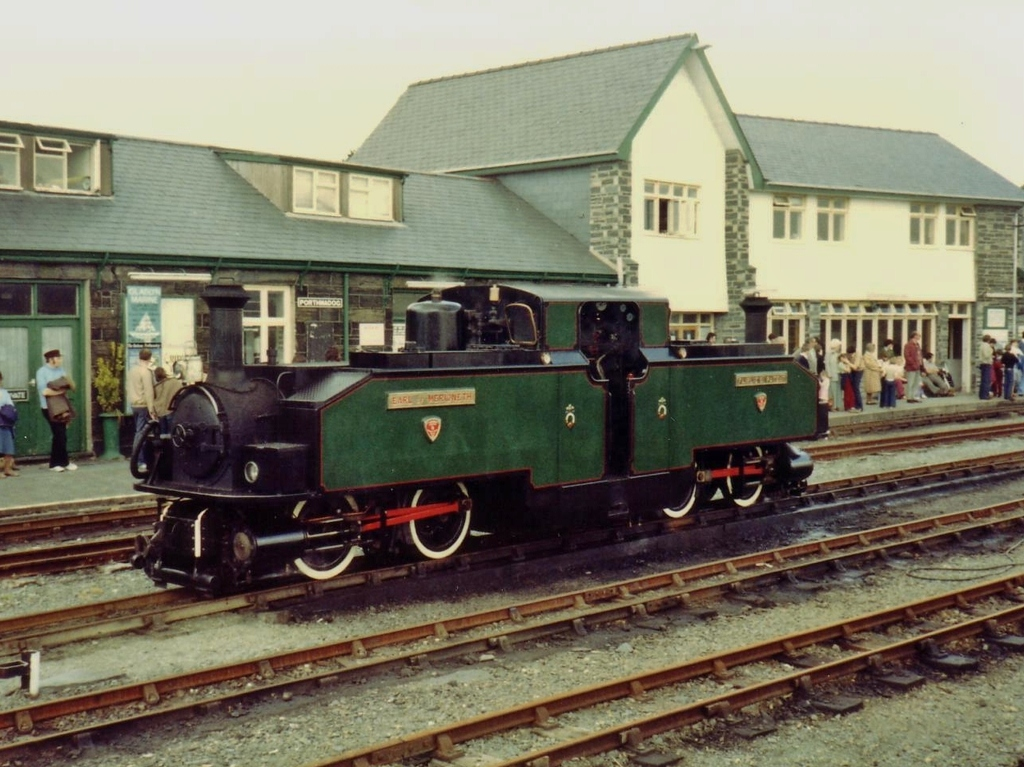train: (123, 281, 831, 586)
